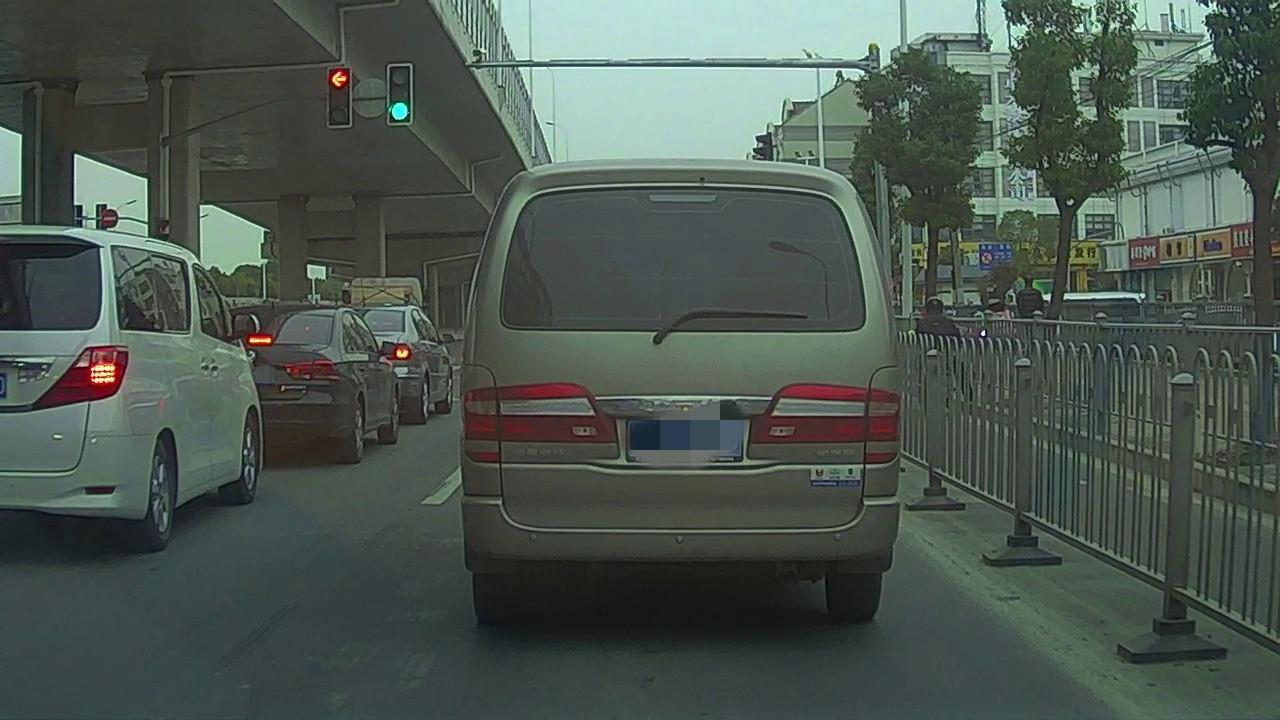traffic_light: (389, 66, 411, 122), (330, 70, 352, 124)
